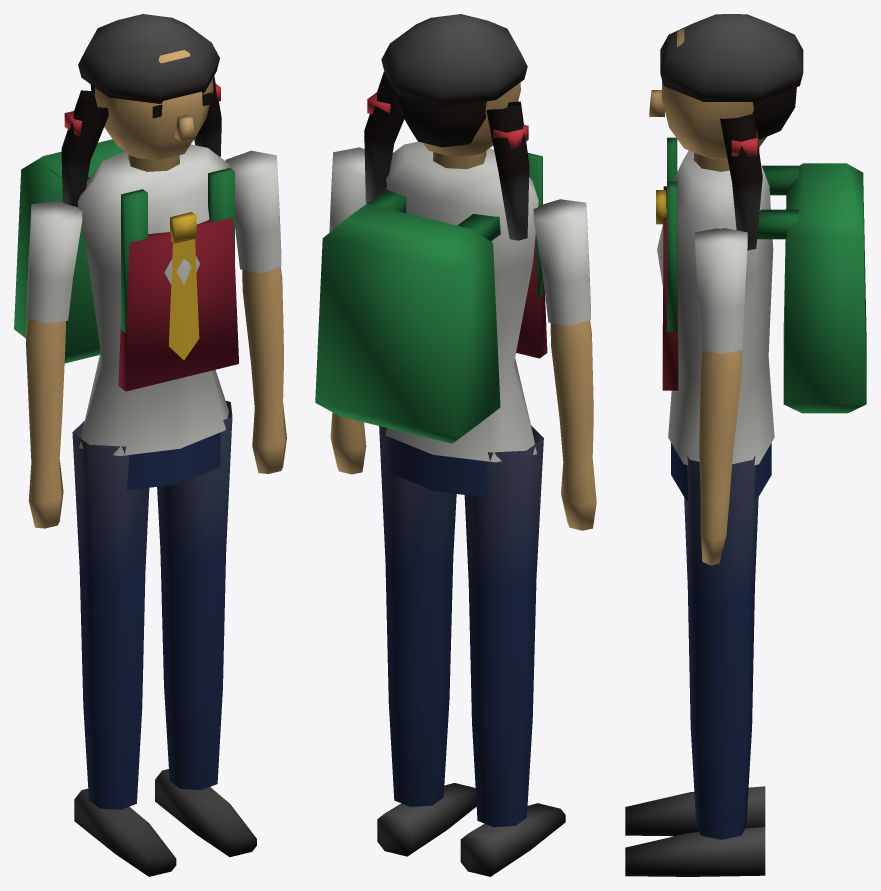
Rendered from estudiante.glb.
3 views of the same model, side by side, from view 1: azimuth 30°, elevation 25°; view 2: azimuth 150°, elevation 25°; view 3: azimuth 270°, elevation 25° (orthographic). The views are drawn at different scales.
Parts seen in each view (by area): view 1: estudiante; view 2: estudiante; view 3: estudiante.
Part boxes in pixels (x1,y1,x2,y2): estudiante: [14, 14, 286, 876]; estudiante: [315, 14, 596, 876]; estudiante: [625, 14, 866, 876].
Size of the model in its own units: 0.5928 by 1.77 by 0.465.
